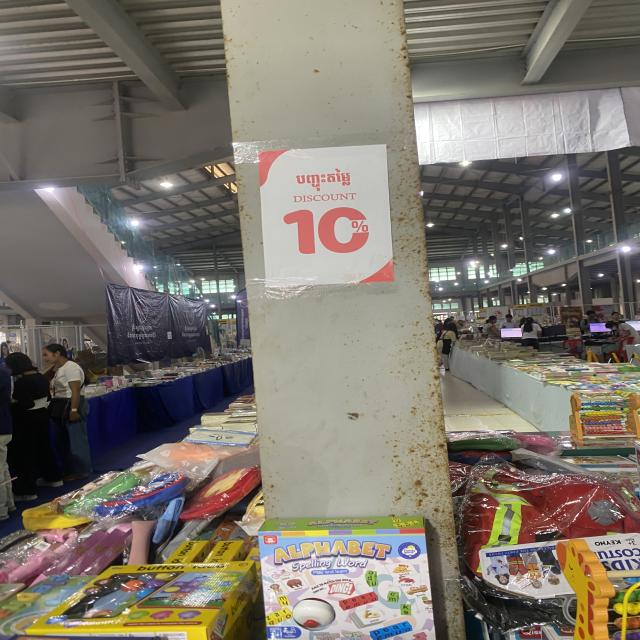Yolov11kh: (276, 202, 374, 258), (294, 166, 354, 194), (349, 220, 369, 232)
